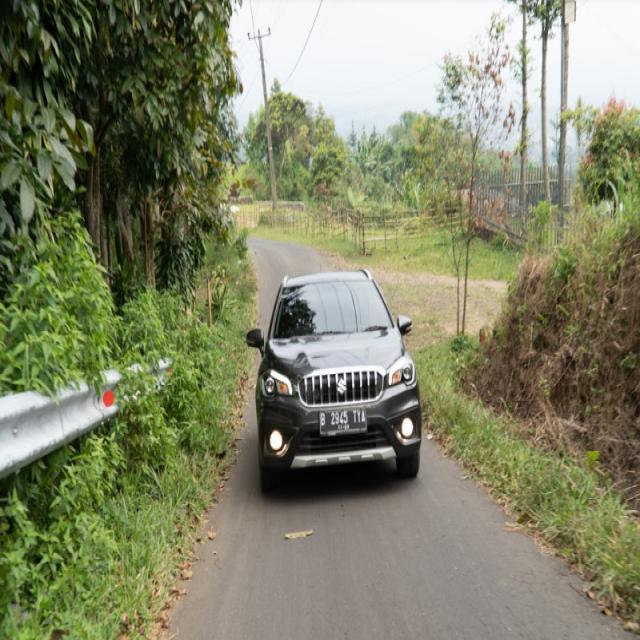plate: (320, 408, 368, 434)
